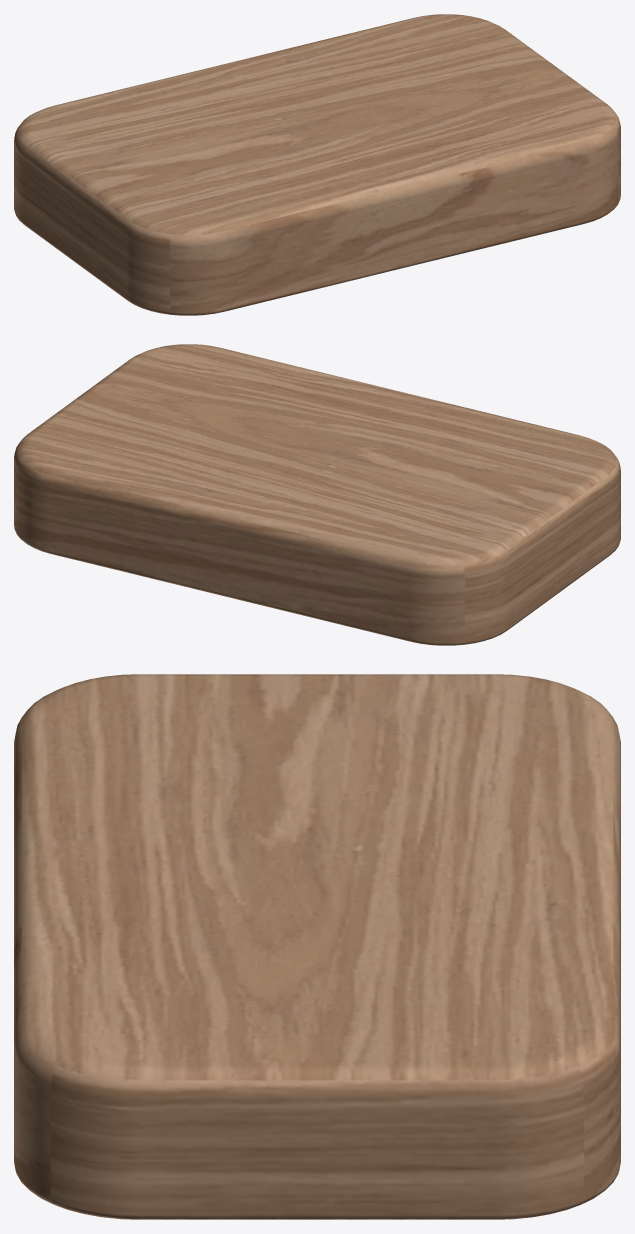
File: s01-pedestal.glb
3 renders of one model, top to bottom at view 1: azimuth 30°, elevation 25°; view 2: azimuth 150°, elevation 25°; view 3: azimuth 270°, elevation 25°, orthographic. The views are drawn at different scales.
Visible parts, largest first — view 1: S01_Pedestal; view 2: S01_Pedestal; view 3: S01_Pedestal.
Boxes of the visible parts, x1=… form: S01_Pedestal: x1=14, y1=14, x2=620, y2=315; S01_Pedestal: x1=14, y1=344, x2=620, y2=645; S01_Pedestal: x1=14, y1=674, x2=620, y2=1219.
Bounding box in the file's own units: 0.041 × 0.0068 × 0.0256.
1 material, 1 textured.
